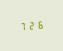seven: (18, 21, 25, 31)
six: (35, 19, 42, 30)
two: (27, 20, 34, 30)
